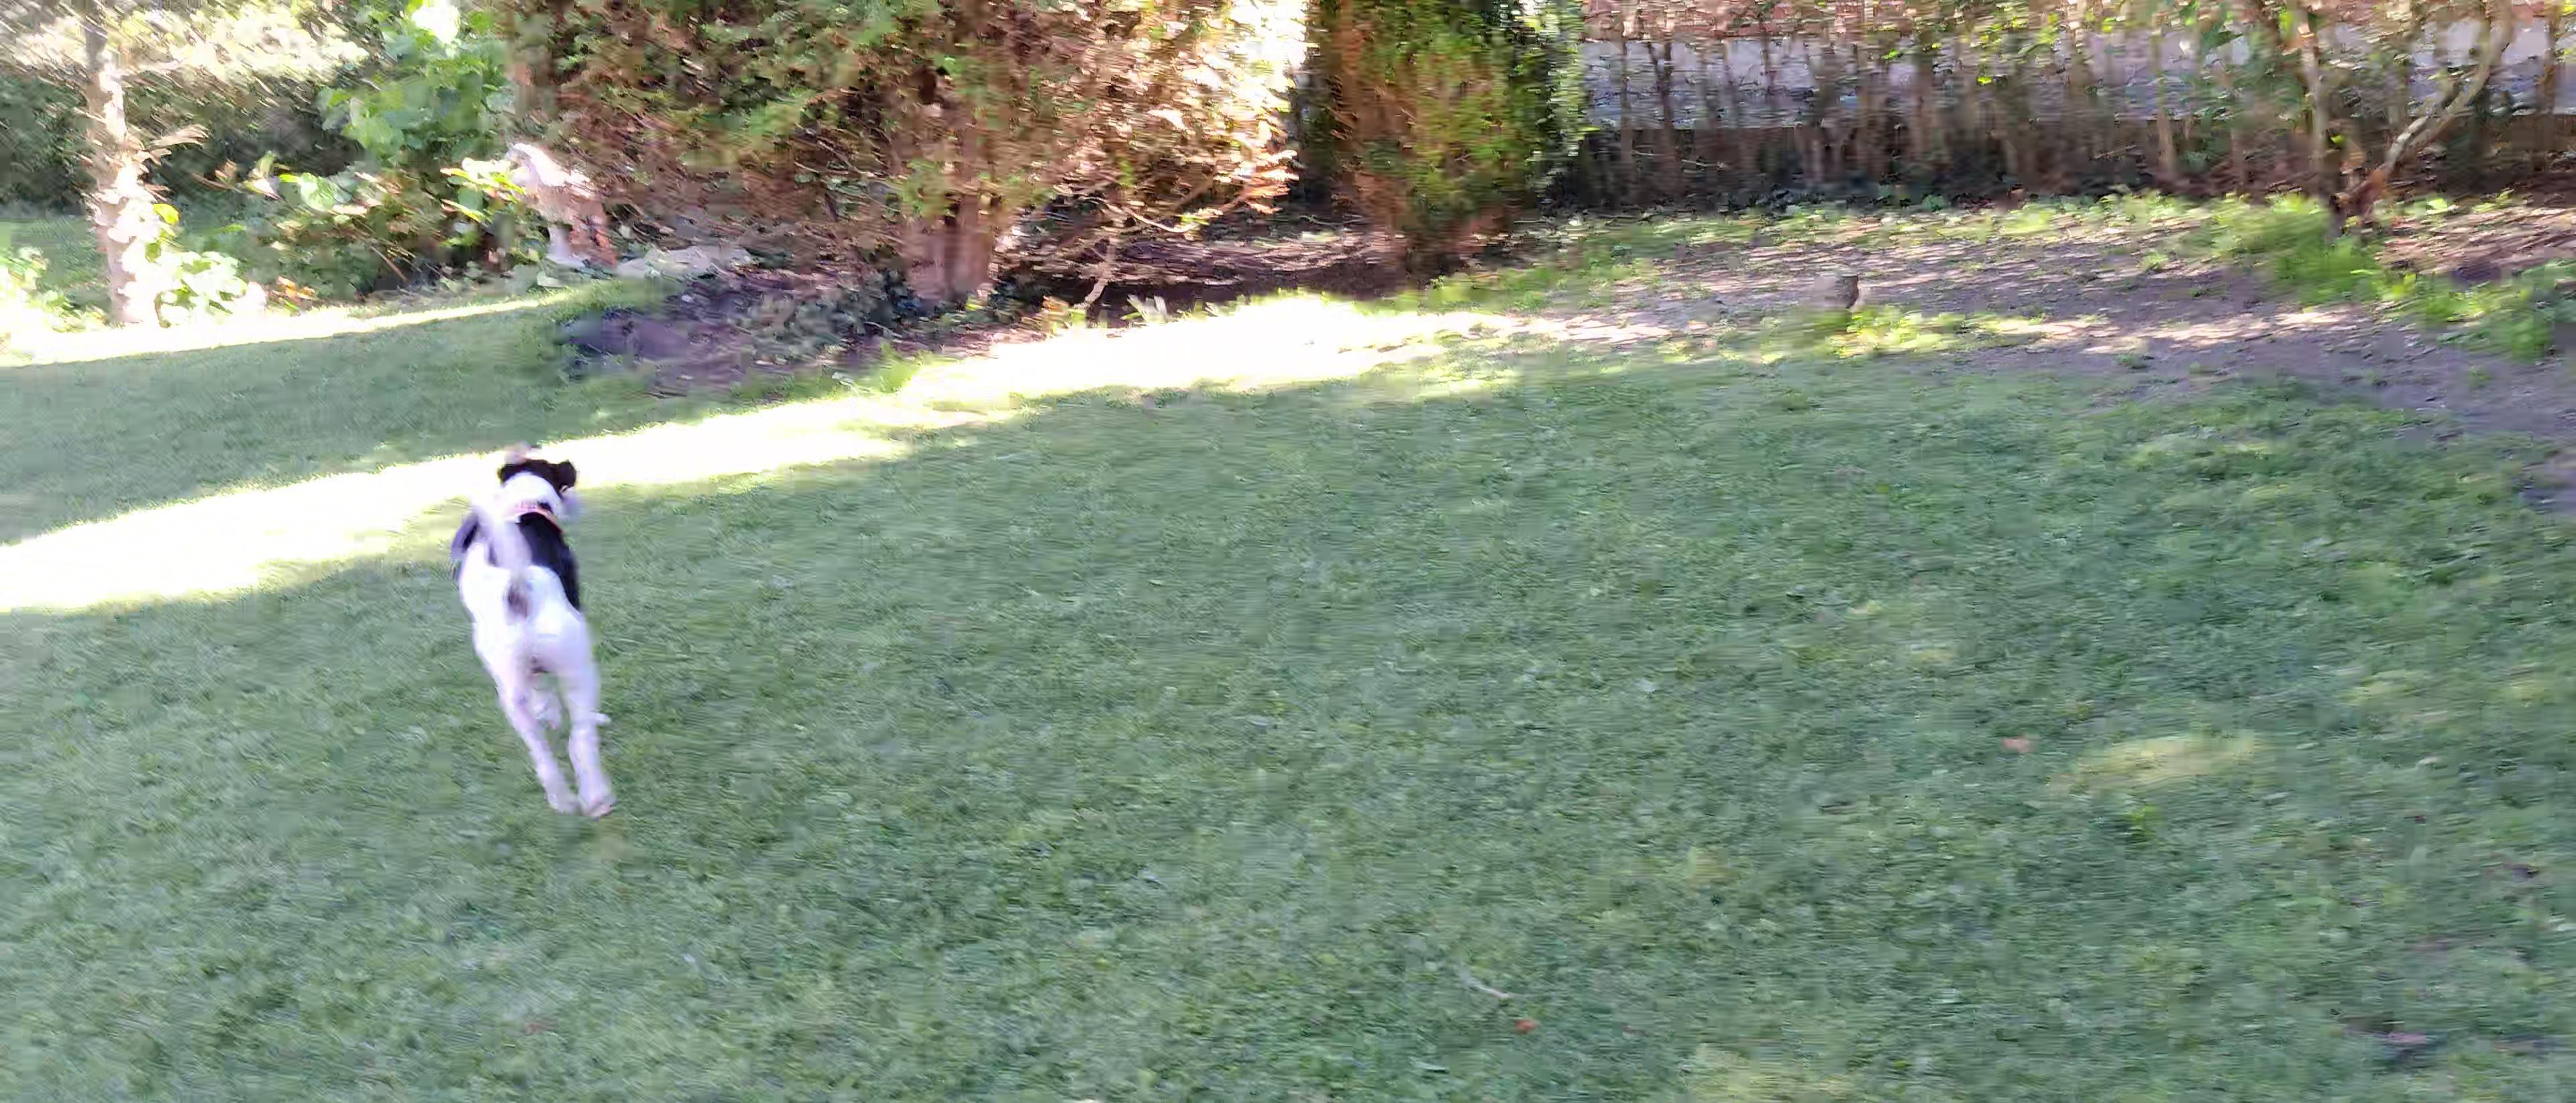Dog: (425, 434, 624, 822)
